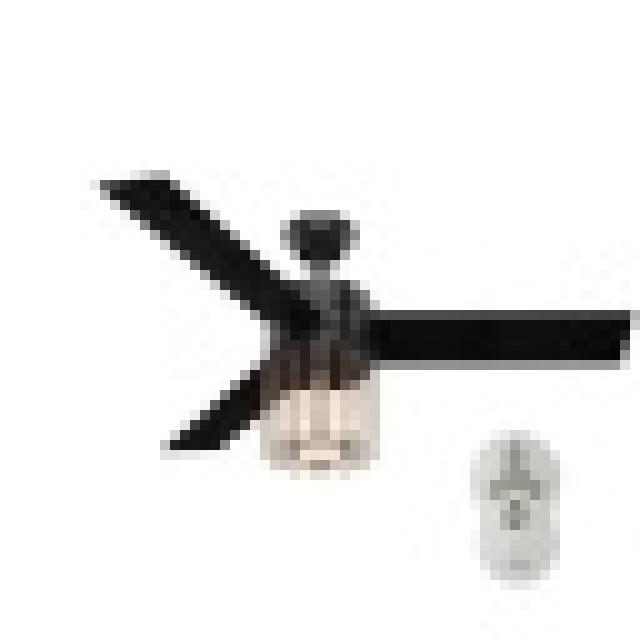Bulb: (86, 138, 640, 466)
